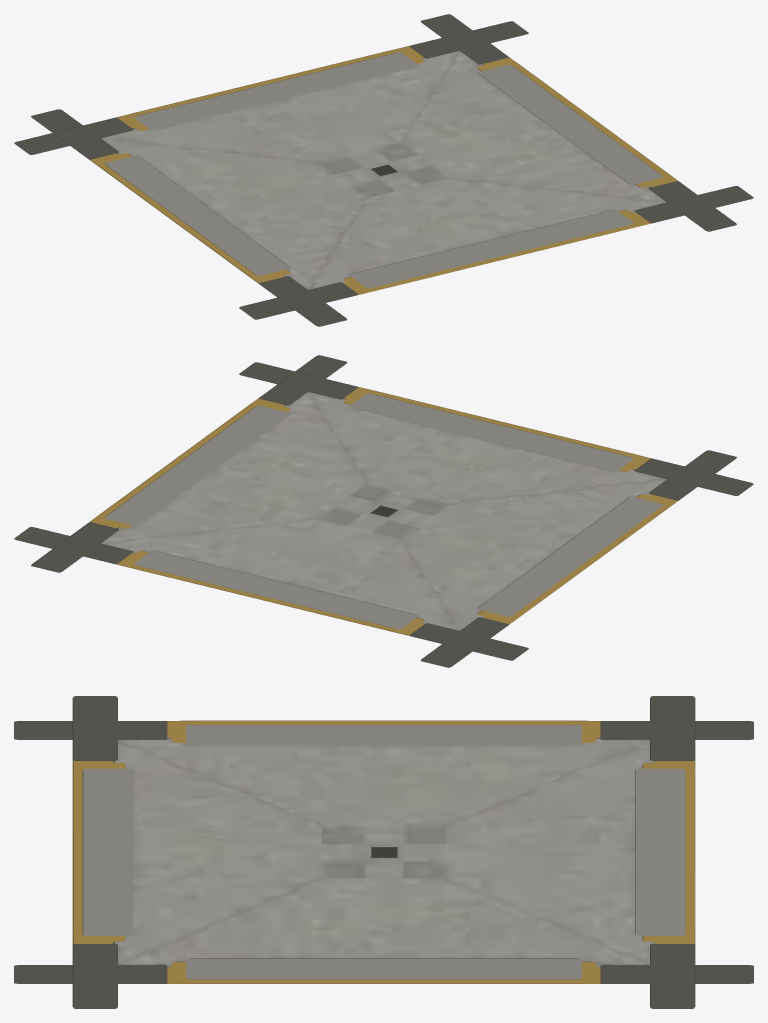
File: GAWALL.glb
3 views of the same model, one above another, from view 1: azimuth 30°, elevation 25°; view 2: azimuth 150°, elevation 25°; view 3: azimuth 270°, elevation 25° (orthographic). The views are drawn at different scales.
Visible parts, largest first — view 1: ArmZNBlock, ArmXPBlock, ArmXNBlock, ArmZPBlock, ArmZP, ArmZN, ArmXN, ArmXP; view 2: ArmZPBlock, ArmXPBlock, ArmXNBlock, ArmZNBlock, ArmZN, ArmZP, ArmXN, ArmXP; view 3: ArmXNBlock, ArmZNBlock, ArmZPBlock, ArmXPBlock, ArmZN, ArmZP, ArmXP, ArmXN.
Part boxes in pixels (left/top/right/bottom): ArmZNBlock: left=101, top=51, right=459, bottom=174; ArmXPBlock: left=387, top=51, right=666, bottom=202; ArmXNBlock: left=101, top=138, right=394, bottom=289; ArmZPBlock: left=308, top=172, right=666, bottom=289; ArmZP: left=239, top=186, right=753, bottom=319; ArmZN: left=14, top=21, right=528, bottom=154; ArmXN: left=31, top=109, right=347, bottom=326; ArmXP: left=420, top=14, right=736, bottom=231; ArmZPBlock: left=308, top=392, right=666, bottom=515; ArmXPBlock: left=101, top=392, right=384, bottom=543; ArmXNBlock: left=373, top=479, right=666, bottom=630; ArmZNBlock: left=101, top=513, right=459, bottom=630; ArmZN: left=14, top=527, right=528, bottom=660; ArmZP: left=239, top=362, right=753, bottom=495; ArmXN: left=420, top=450, right=736, bottom=667; ArmXP: left=31, top=355, right=347, bottom=572; ArmXNBlock: left=118, top=738, right=649, bottom=847; ArmZNBlock: left=396, top=740, right=654, bottom=964; ArmZPBlock: left=113, top=740, right=371, bottom=964; ArmXPBlock: left=118, top=857, right=649, bottom=966; ArmZN: left=635, top=696, right=695, bottom=1008; ArmZP: left=72, top=696, right=132, bottom=1008; ArmXP: left=14, top=958, right=753, bottom=983; ArmXN: left=14, top=720, right=753, bottom=745.
Size of the model in its own units: 1.2 by 0.00053 by 1.2.
10 materials, 5 textured.
